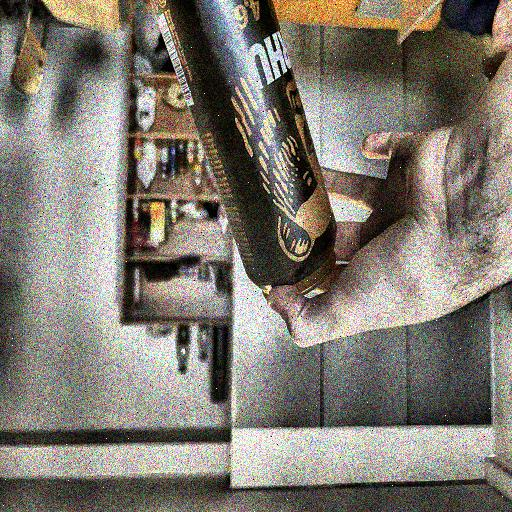karhu: (142, 0, 344, 323)
